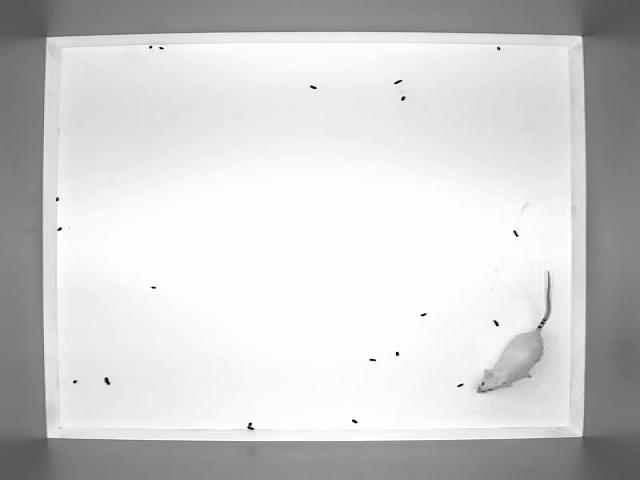Tikus: (483, 263, 563, 398)
